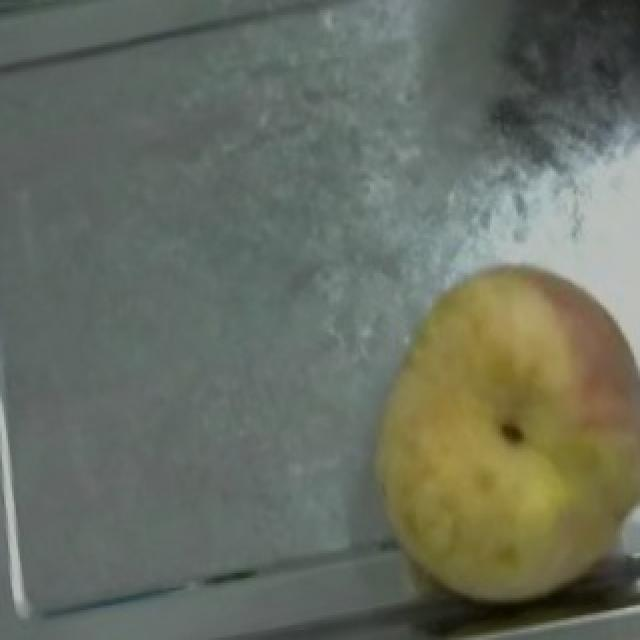Fruit: (328, 315, 640, 640)
